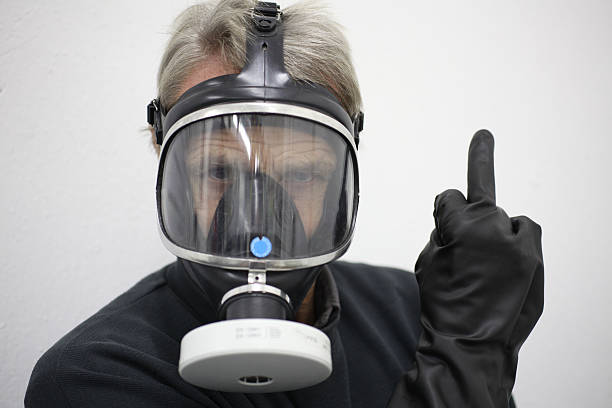insulting_gesture: (411, 128, 548, 349)
